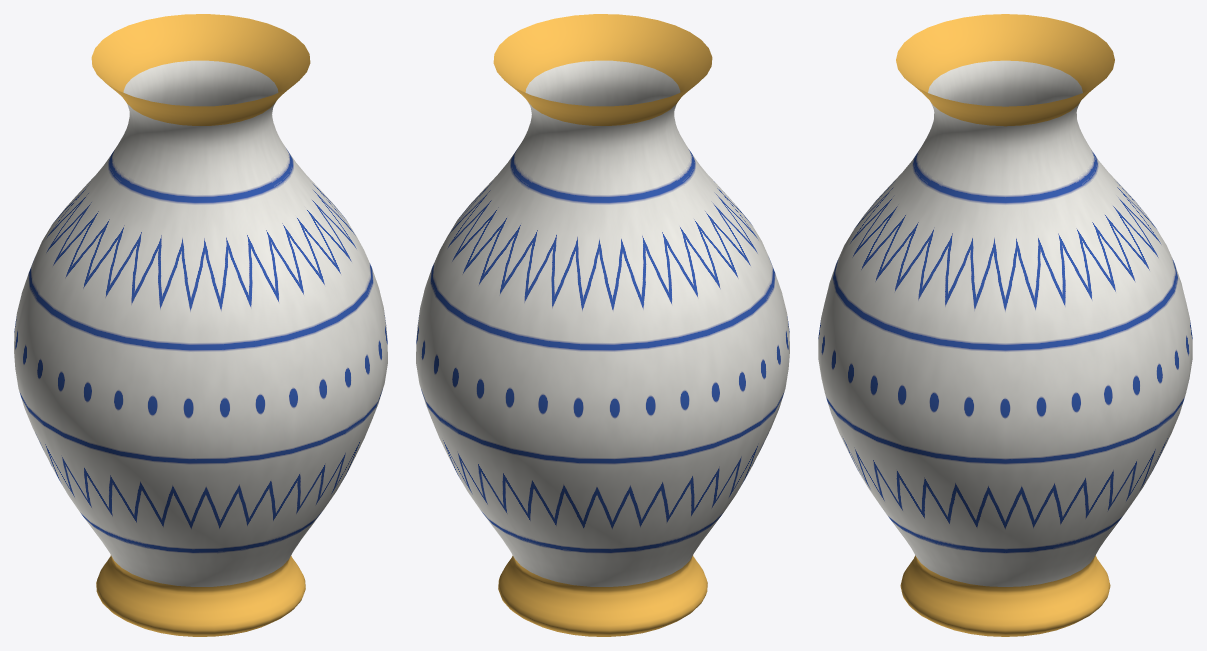
File: vase.obj
The picture shows the model from 3 angles, left to right: view 1: azimuth 30°, elevation 25°; view 2: azimuth 150°, elevation 25°; view 3: azimuth 270°, elevation 25°; orthographic projection.
Visible parts, largest first — view 1: Vase; view 2: Vase; view 3: Vase.
Part boxes in pixels (left/top/right/bottom): Vase: left=14, top=14, right=387, bottom=636; Vase: left=416, top=14, right=789, bottom=636; Vase: left=818, top=14, right=1192, bottom=636.
Size of the model in its own units: 0.82 by 1.3 by 0.82.
2 materials, 1 textured.
